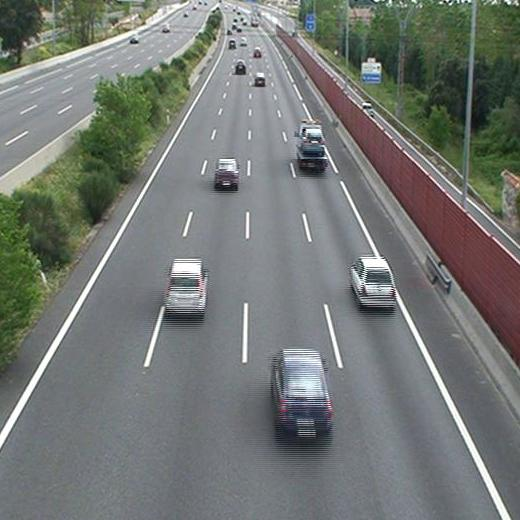car: (272, 350, 333, 425), (349, 258, 396, 308), (166, 258, 205, 311), (215, 158, 238, 182), (302, 130, 323, 151), (254, 71, 266, 85), (235, 60, 247, 71), (228, 40, 237, 50), (253, 48, 262, 56)
small-truck: (296, 122, 327, 167)
